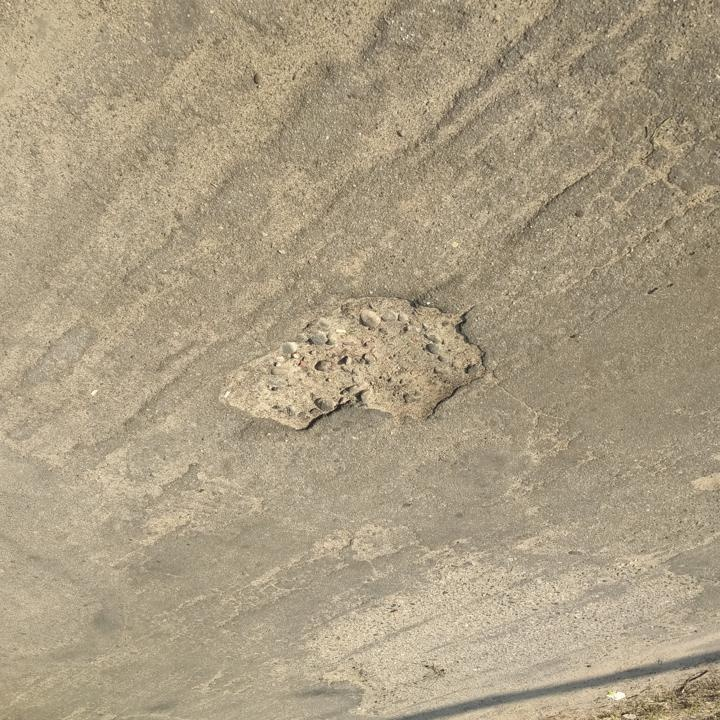pothole: (219, 295, 489, 434)
